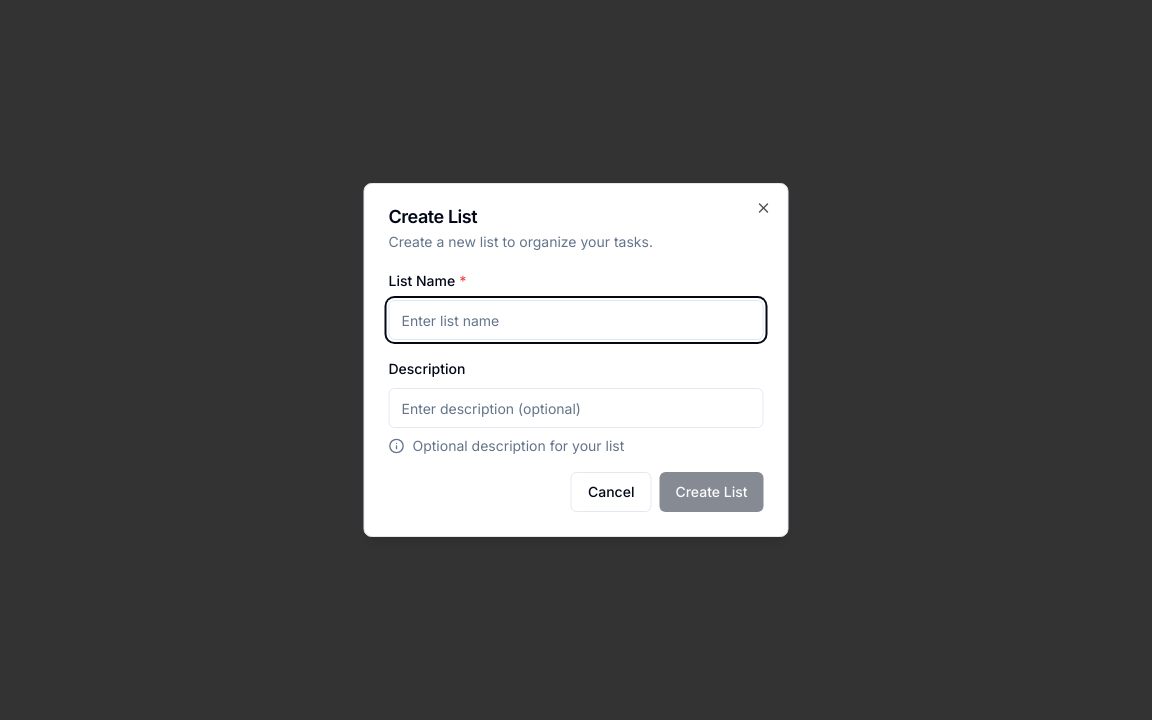
it: ListForm › shows loading state during submission
Type "New List" into the field labelled "List Name*".
click(576, 320); type("New List")  # box [388,300,764,340]
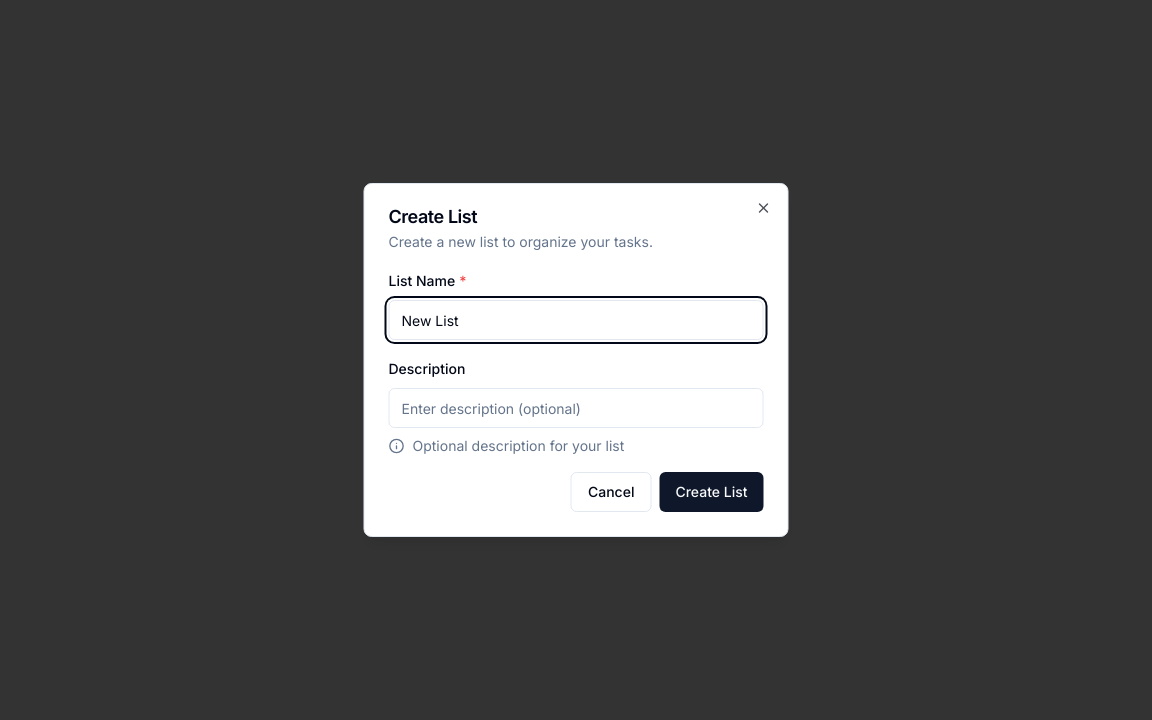
Click the button "Create List".
click(711, 492)  # box [659,472,764,512]
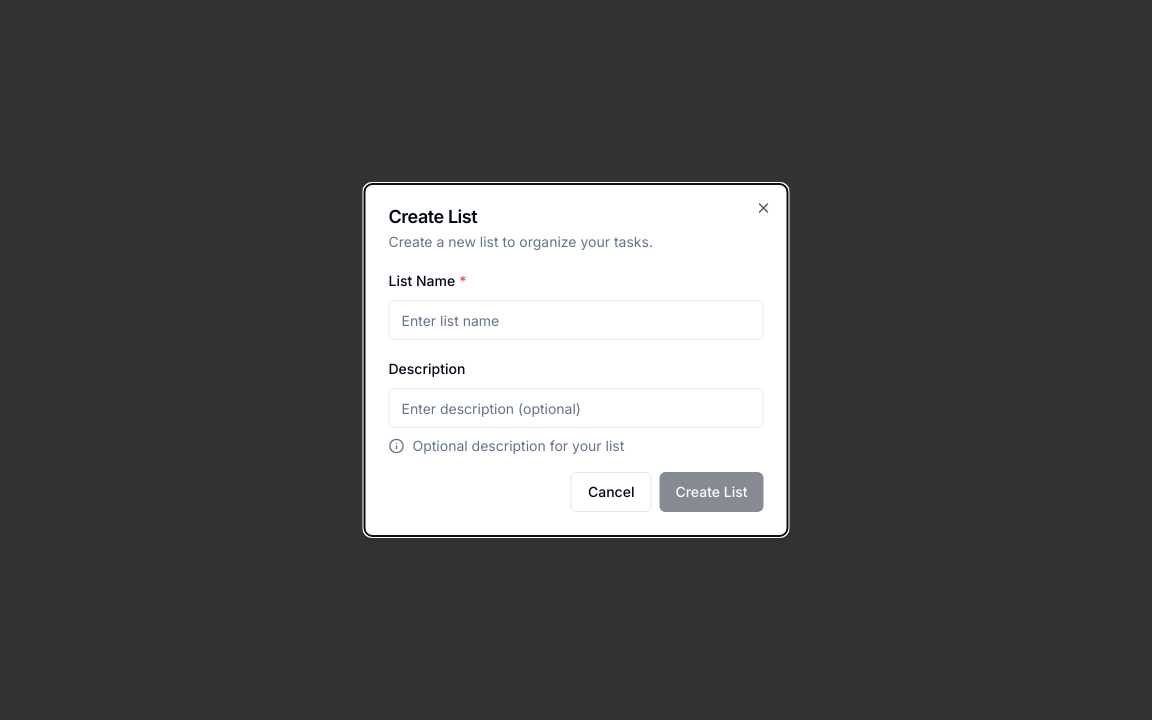
Expected: the button "Create List" is disabled, [659,472,764,512]
